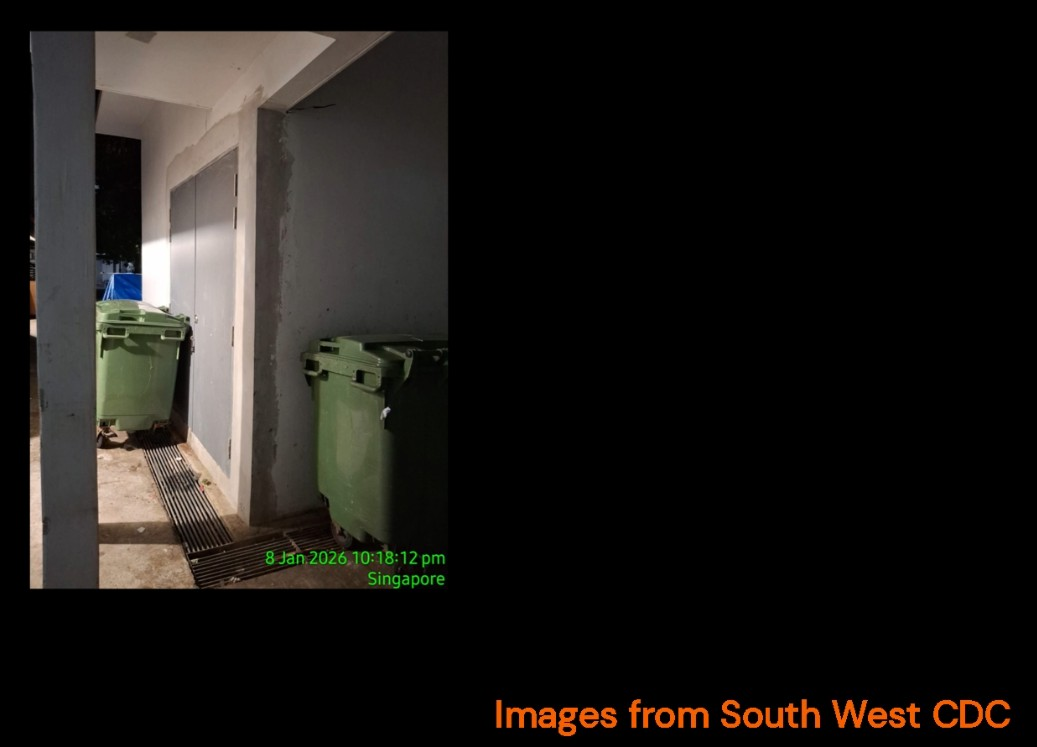bin_empty: (301, 334, 447, 551), (95, 301, 187, 443)
